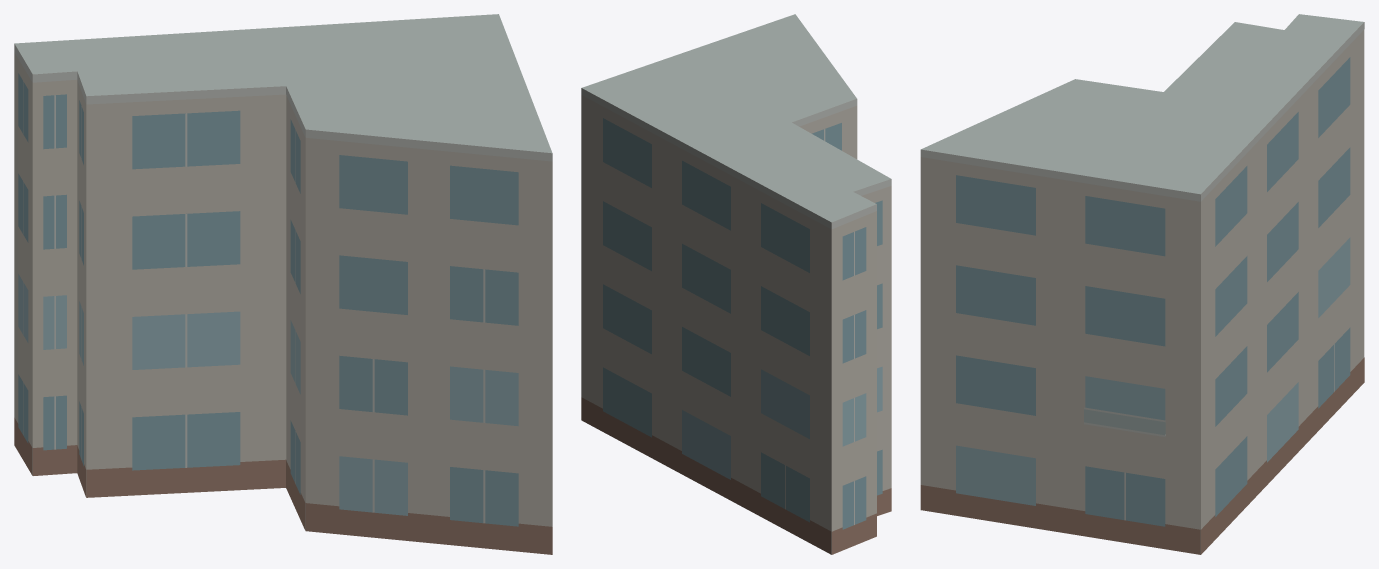
The model's file is survey-upis-32651417.glb.
3 views of the same model, side by side, from view 1: azimuth 30°, elevation 25°; view 2: azimuth 150°, elevation 25°; view 3: azimuth 270°, elevation 25° (orthographic). The views are drawn at different scales.
Parts seen in each view (by area): view 1: survey-upis-32651417.tmp; view 2: survey-upis-32651417.tmp; view 3: survey-upis-32651417.tmp.
Boxes of the visible parts, x1,y1,x2,y2 form: survey-upis-32651417.tmp: (14, 14, 552, 554); survey-upis-32651417.tmp: (581, 14, 891, 554); survey-upis-32651417.tmp: (920, 14, 1364, 554).
Bounding box in the file's own units: 12.67 × 11.8 × 13.17.
